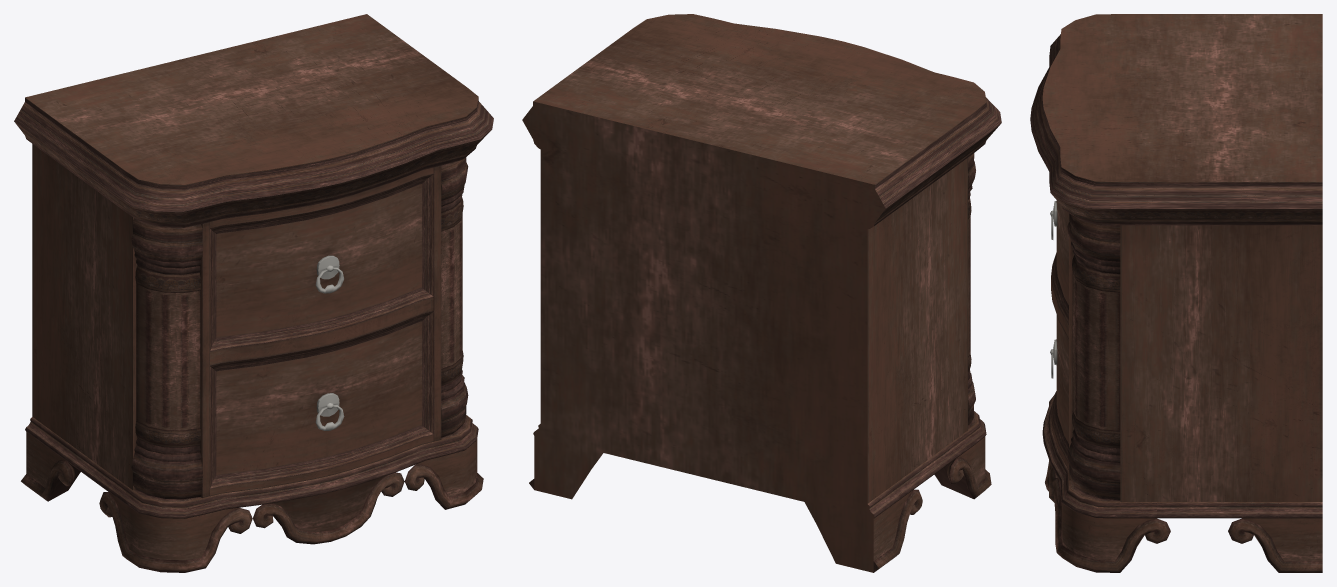
The model's file is trim_sheet__example_dresser.glb.
The picture shows the model from 3 angles, left to right: view 1: azimuth 30°, elevation 25°; view 2: azimuth 150°, elevation 25°; view 3: azimuth 270°, elevation 25°; orthographic projection.
Parts seen in each view (by area): view 1: Dresser_01; view 2: Dresser_01; view 3: Dresser_01.
Boxes of the visible parts, x1,y1,x2,y2 form: Dresser_01: (14, 14, 493, 572); Dresser_01: (522, 14, 1001, 572); Dresser_01: (1030, 14, 1322, 572).
Bounding box in the file's own units: 83.43 × 85.13 × 57.63.
2 materials, 1 textured.
